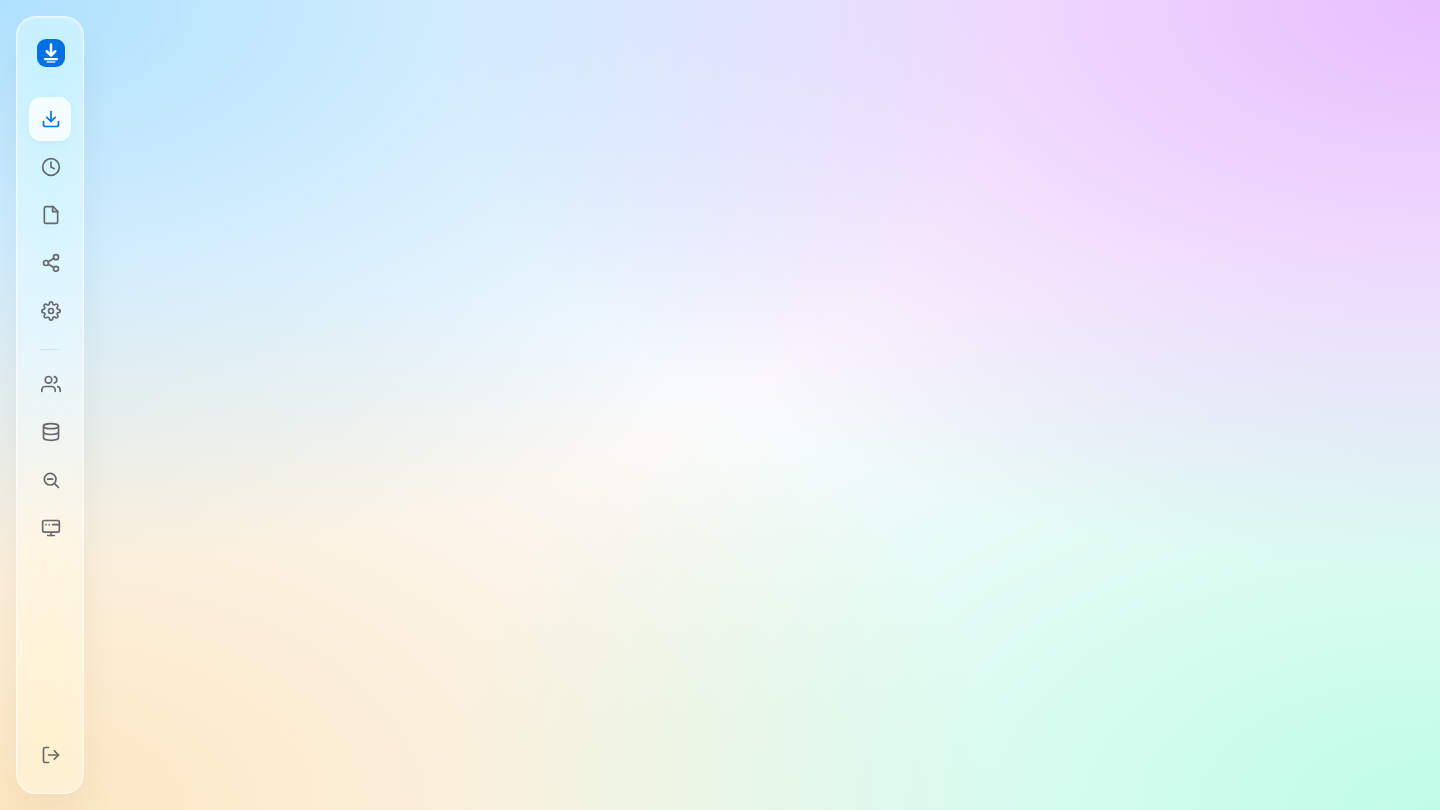
Test case: AppLayout（V1 应用壳） › renders V1 sidebar nav entries with admin items
Expected: the navigation bar with class "sidebar-nav" is shown, 29,97 -> 71,538
# V1 桌面侧栏：展开后显示文字（折叠态仅图标）。
Hover over the element with class "sidebar" at (50, 405), box 16,16 -> 84,794
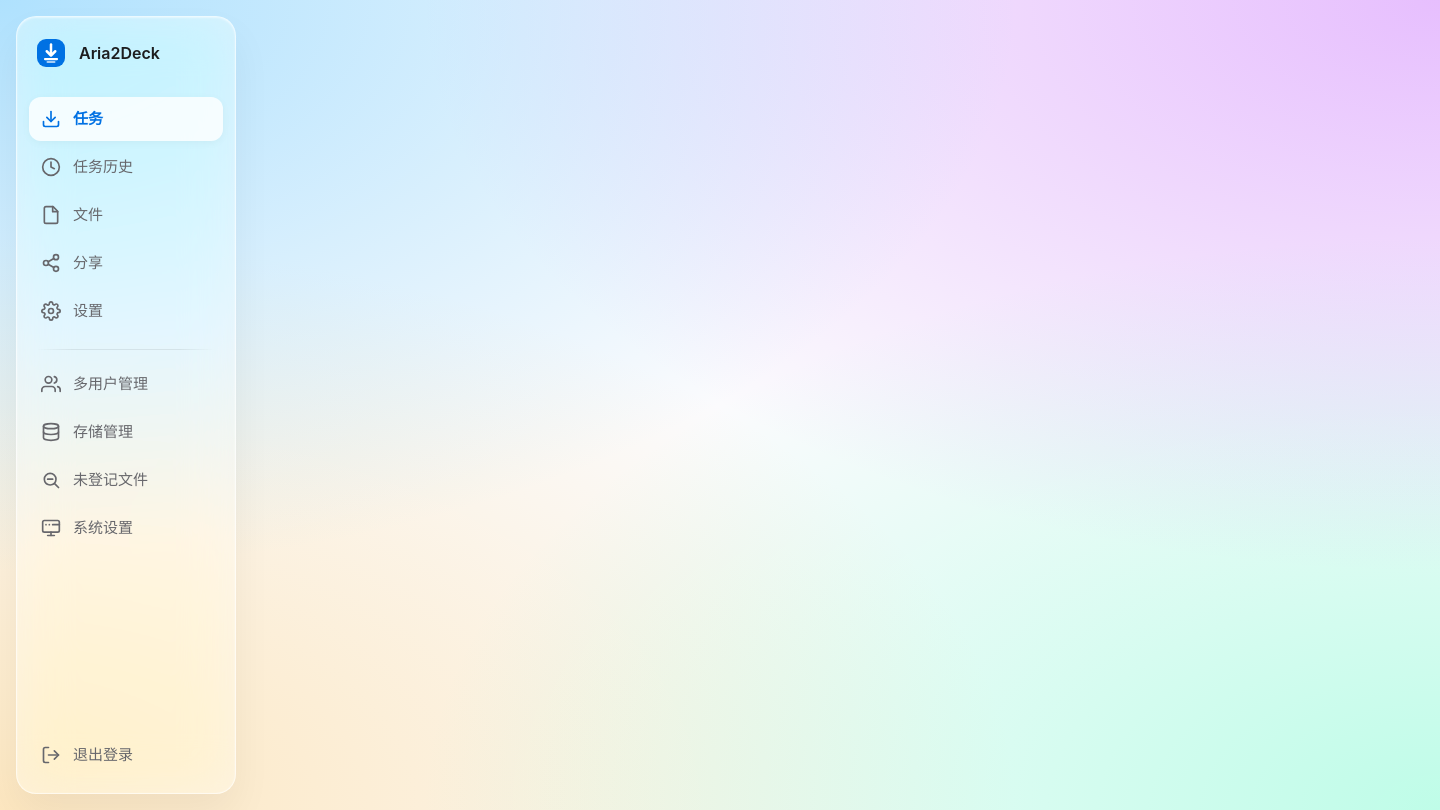
Expected: the navigation bar with class "sidebar-nav" shows "任务", 29,97 -> 223,141
Expected: the navigation bar with class "sidebar-nav" shows "任务历史", 29,145 -> 223,189
Expected: the navigation bar with class "sidebar-nav" shows "文件", 29,193 -> 223,237
